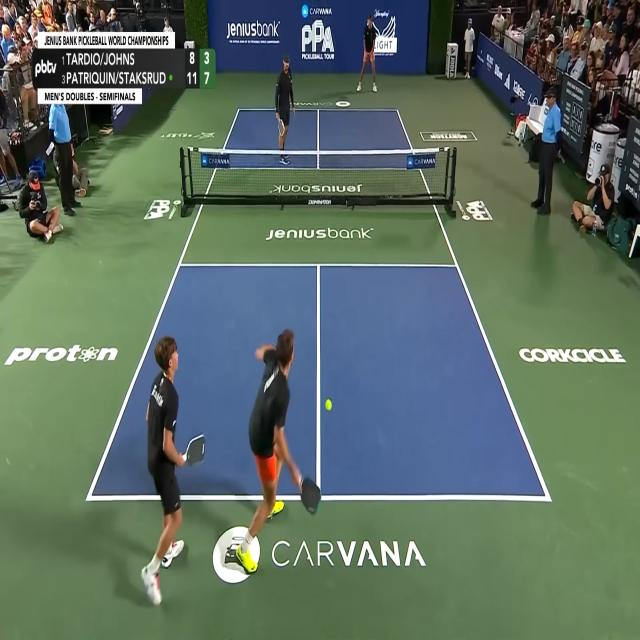ball: (325, 398, 332, 412)
